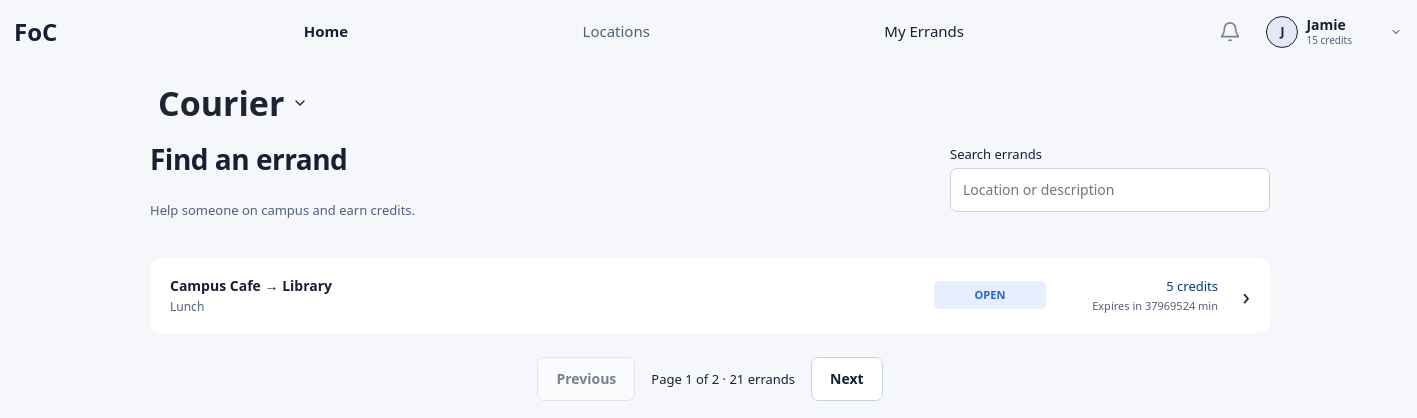
Test: requests the next server page from /home?mode=courier
Check: the link that starts with "Campus Cafe" is shown, box [150, 258, 1270, 333]
Click the button "Next" at (847, 379), box [811, 357, 882, 401]
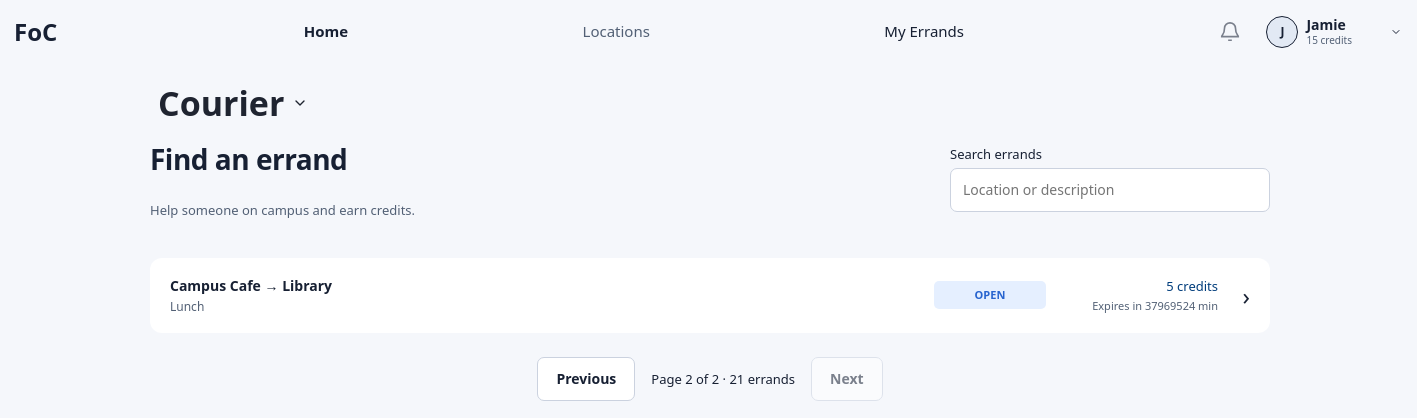
Check: the button "Next" is disabled, box [811, 357, 882, 401]
Check: the button "Previous" is enabled, box [537, 357, 635, 401]
